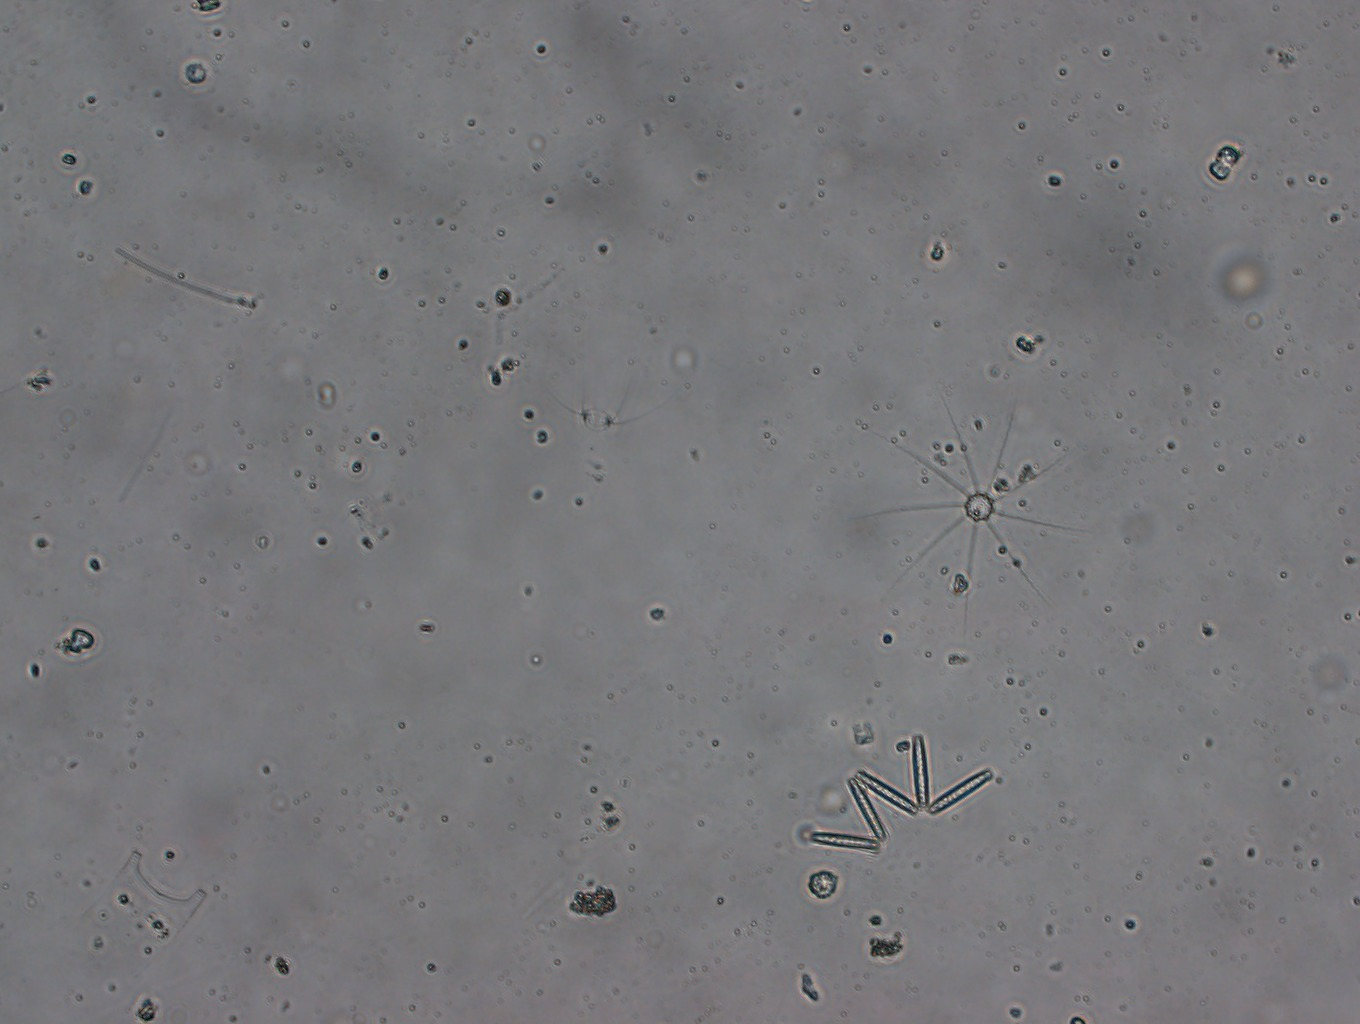bacteriastrum: (862, 396, 1091, 611)
thalassionema nitzschioides: (808, 724, 1010, 868)
